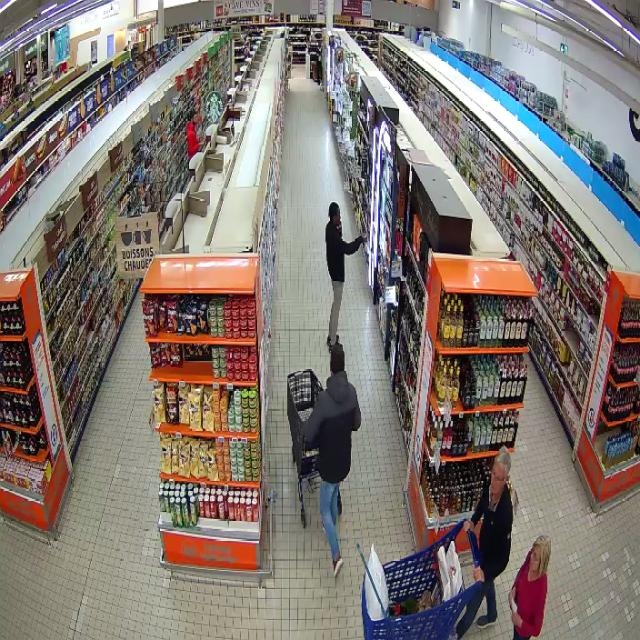hands: (473, 567, 484, 582), (512, 613, 522, 627), (463, 519, 473, 532), (509, 588, 515, 606), (360, 234, 367, 244)
person: (302, 343, 360, 576), (455, 447, 512, 639), (325, 202, 363, 348), (509, 538, 549, 639)
